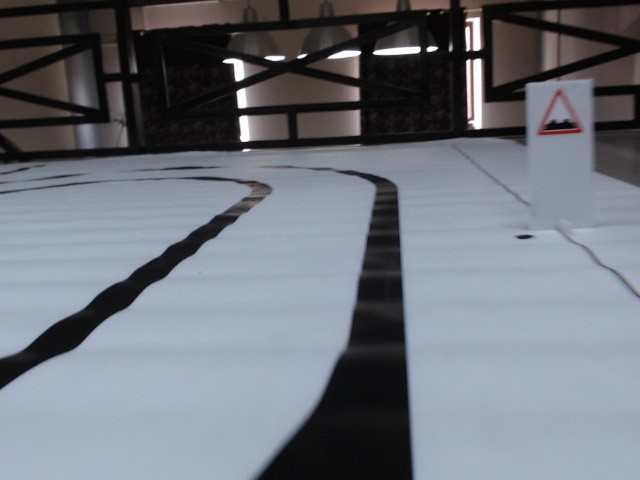Nerov: (534, 88, 589, 137)
